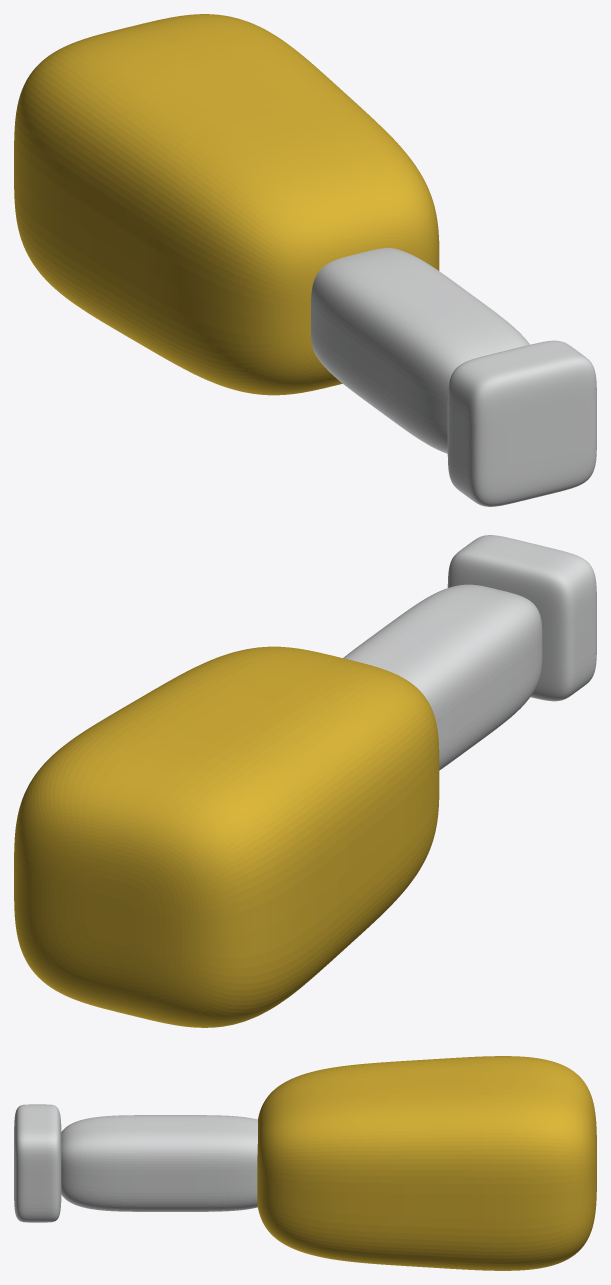
The model's file is green_glass_bottle_sq.glb.
The picture shows the model from 3 angles, top to bottom: view 1: azimuth 30°, elevation 25°; view 2: azimuth 150°, elevation 25°; view 3: azimuth 270°, elevation 25°; orthographic projection. The views are drawn at different scales.
Visible parts, largest first — view 1: superquadric_0, superquadric_1, superquadric_2; view 2: superquadric_0, superquadric_1, superquadric_2; view 3: superquadric_0, superquadric_1, superquadric_2.
Part boxes in pixels (box(x1,y1,x2,y2)): superquadric_0: box(14, 14, 439, 395); superquadric_1: box(311, 248, 529, 453); superquadric_2: box(447, 340, 596, 506); superquadric_0: box(14, 646, 439, 1027); superquadric_1: box(343, 584, 542, 770); superquadric_2: box(447, 535, 596, 701); superquadric_0: box(257, 1056, 596, 1270); superquadric_1: box(61, 1115, 257, 1211); superquadric_2: box(14, 1104, 61, 1222).
Bounding box in the file's own units: 0.3531 × 0.3195 × 1.
